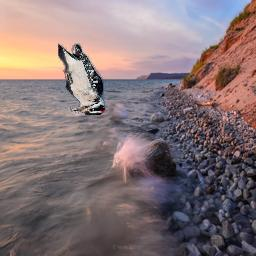Woodpecker: (59, 43, 106, 115)
